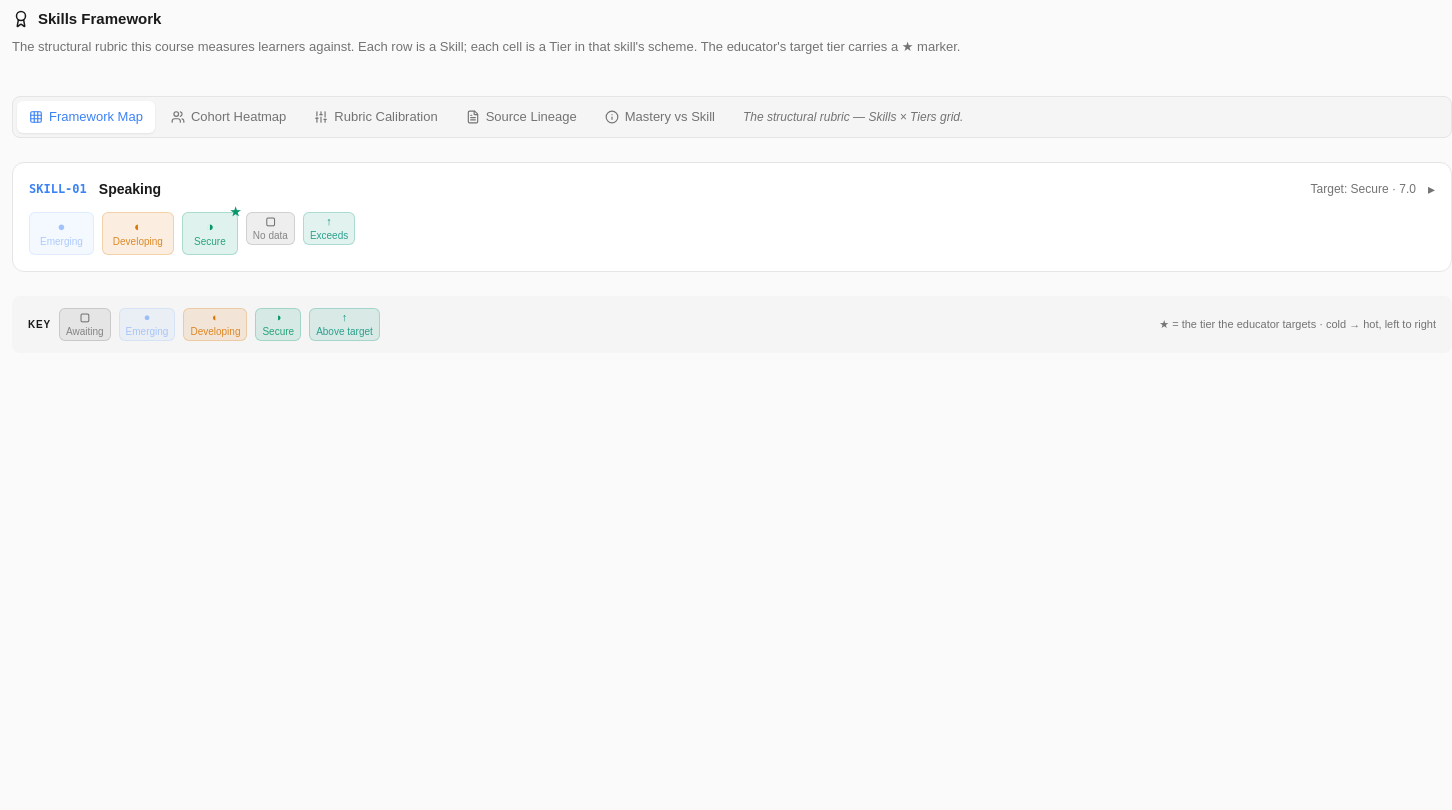
Scenario: <CourseSkillsTab> cohort cell drill › close button dismisses the panel
Expected: the text "Framework Map" is shown, [49,107,143,126]
Click the tab "Cohort Heatmap": (229, 117) [159,101,298,132]
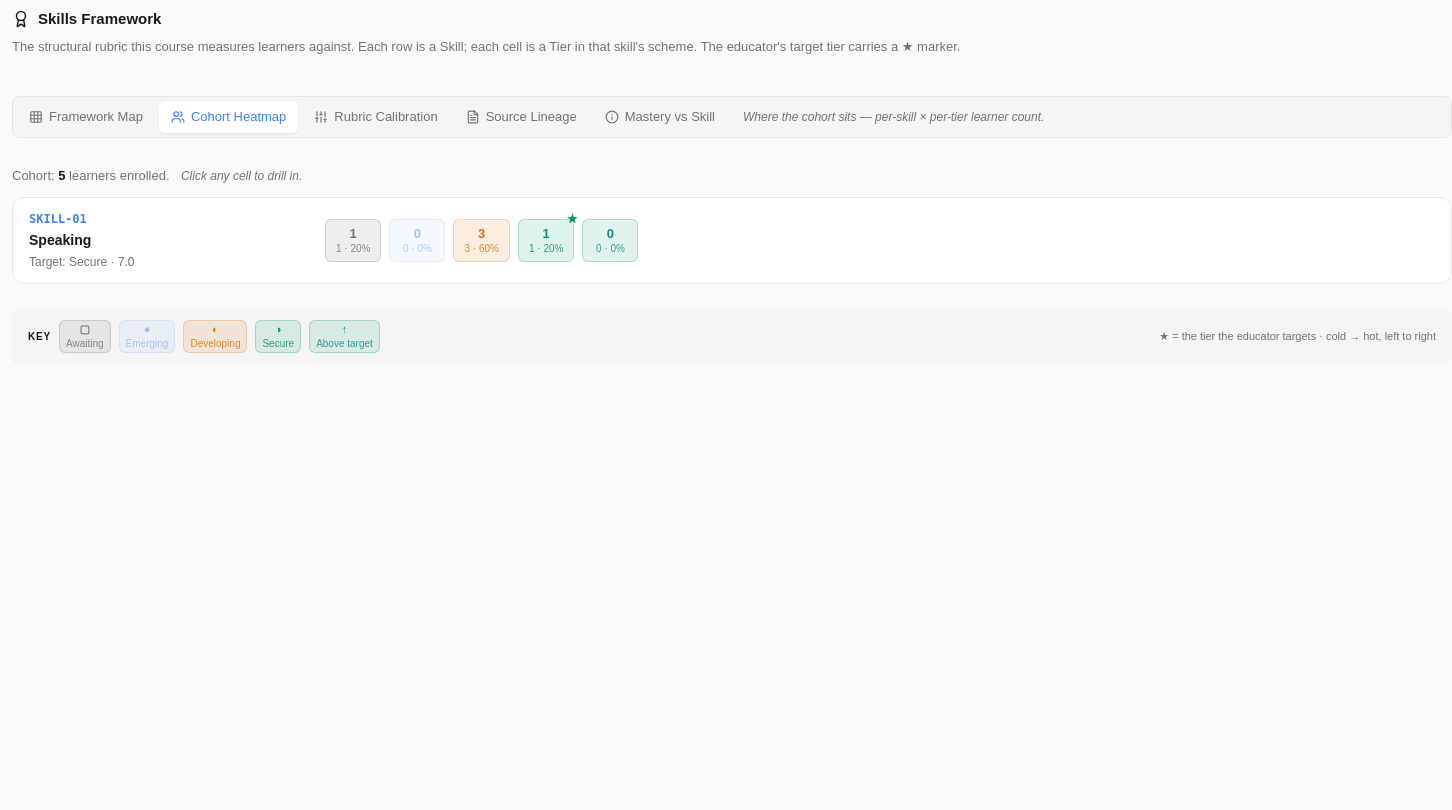
Now the text "Click any cell to drill in." is shown, box [178,168,302,182]
Click the button "3 3 · 60%": (482, 240) [454,219,510,262]
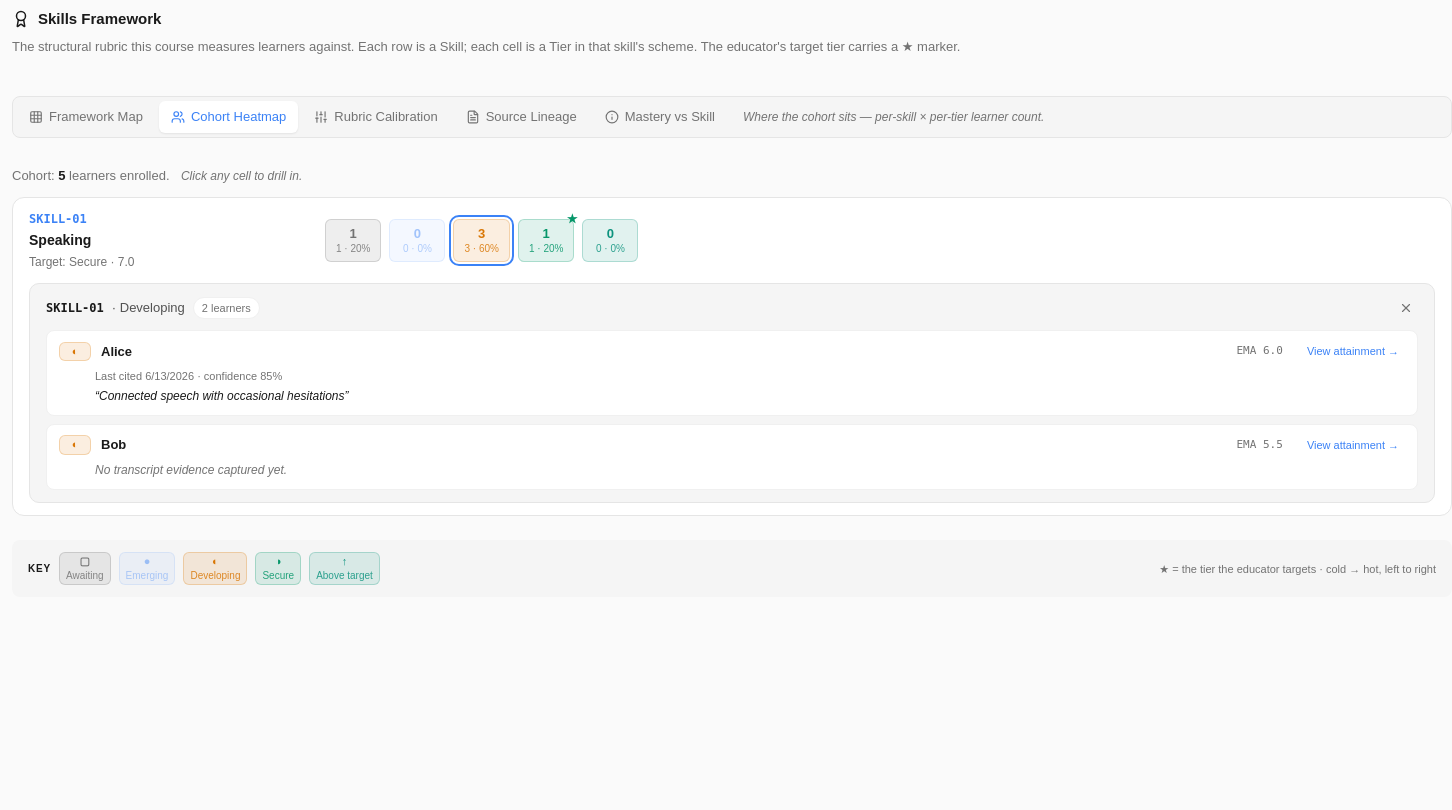
Now the text "Alice" is shown, box [101,344,132,358]
Click the button named "Close drill panel": (1406, 308) [1394,296,1418,320]
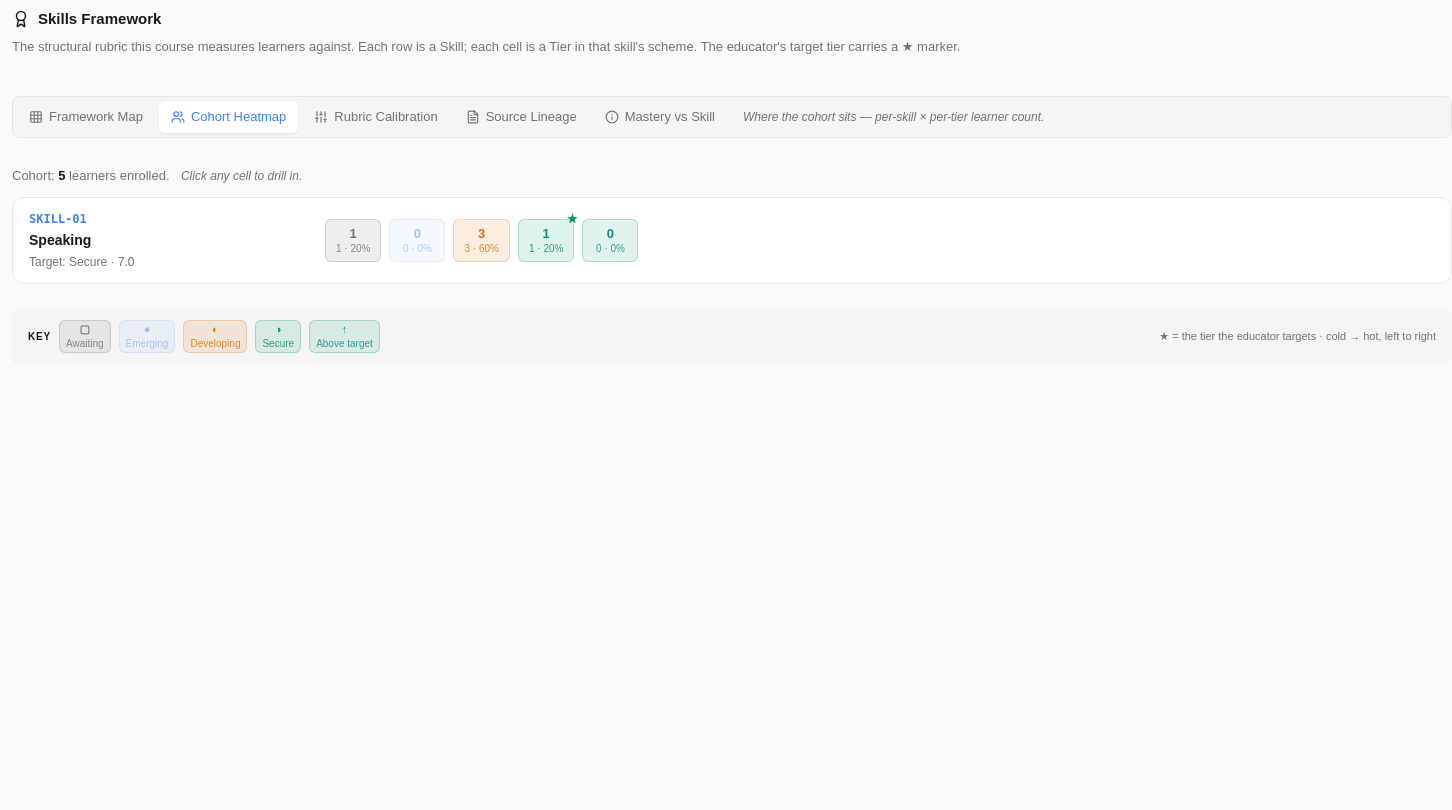
Now the text "Alice" is gone
